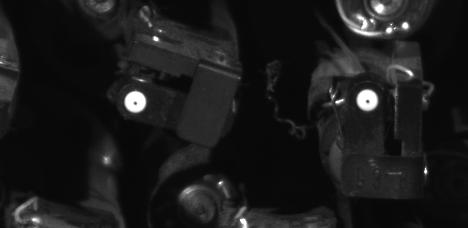fiber: (120, 88, 151, 119), (353, 85, 383, 116)
